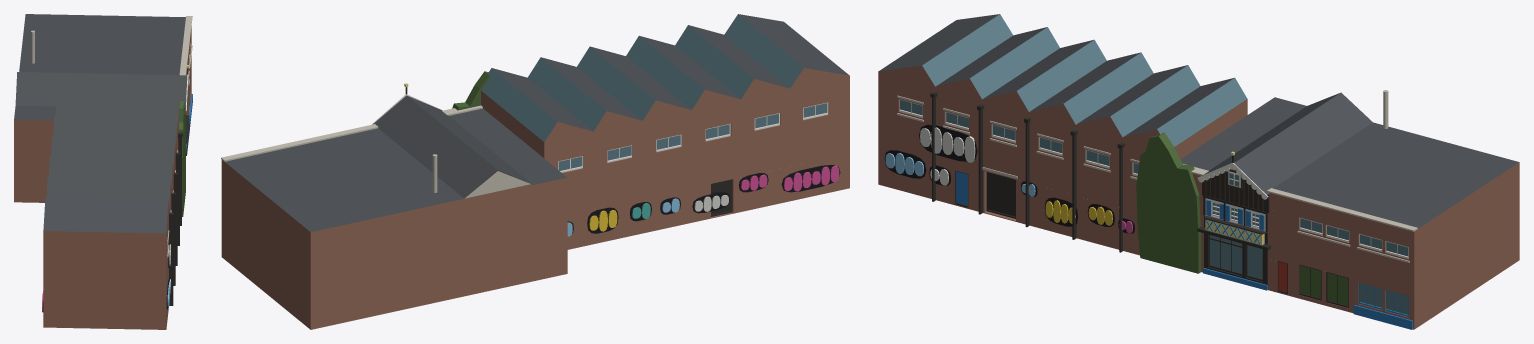
The model's file is skatecafe.glb.
3 renders of one model, left to right at view 1: azimuth 30°, elevation 25°; view 2: azimuth 150°, elevation 25°; view 3: azimuth 270°, elevation 25°, orthographic. The views are drawn at different scales.
Visible parts, largest first — view 1: skatecafe; view 2: skatecafe; view 3: skatecafe.
Boxes of the visible parts, x1=… form: skatecafe: x1=14, y1=14, x2=192, y2=329; skatecafe: x1=221, y1=14, x2=849, y2=329; skatecafe: x1=878, y1=14, x2=1519, y2=329.
Size of the model in its own units: 29.66 by 9.9 by 40.8.
